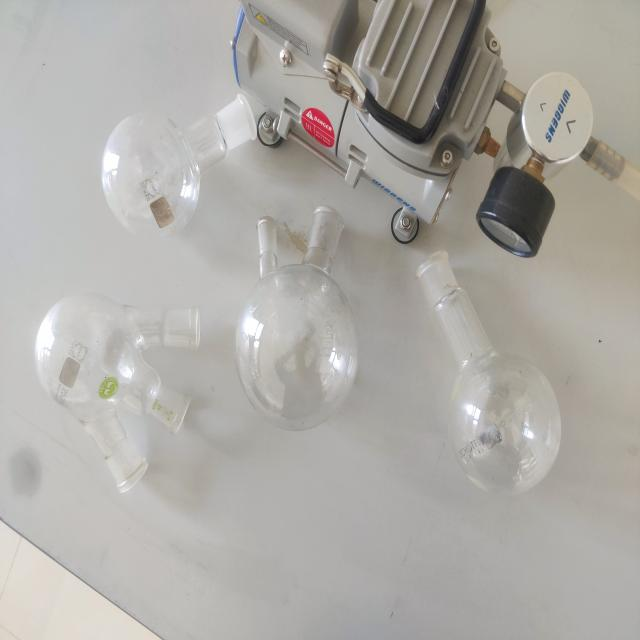Round_Bottom_Flask_Borosilicate_Glass_1_Neck: (392, 197, 602, 526), (103, 48, 267, 246)
Round_Bottom_Flask_Borosilicate_Glass_2_Neck: (224, 154, 394, 434)
Round_Bottom_Flask_Borosilicate_Glass_3_Neck: (29, 263, 221, 512)
